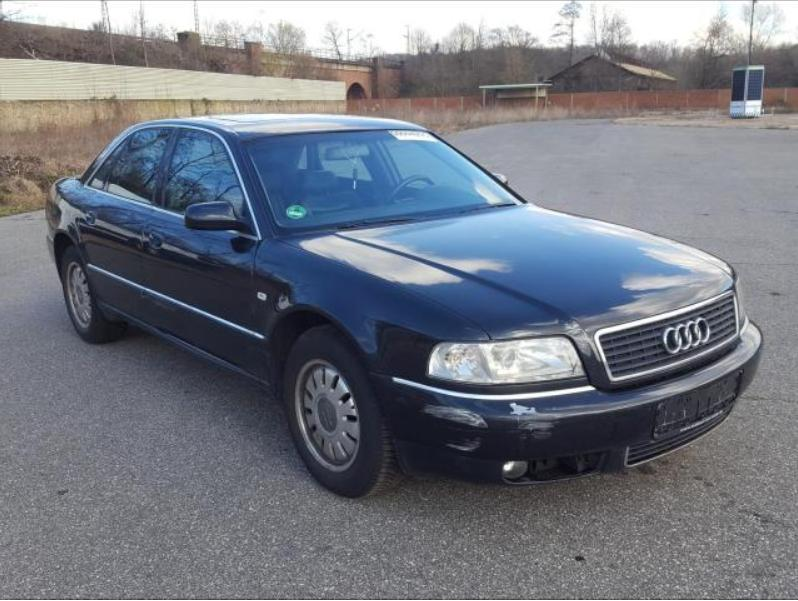Back-door: (74, 128, 174, 320)
Back-wheel: (58, 246, 129, 344)
Back-window: (103, 128, 174, 204), (88, 138, 128, 188)
Fender: (254, 237, 492, 383)
Front-bumper: (370, 319, 764, 484)
Front-door: (141, 128, 261, 376)
Front-wheel: (279, 327, 403, 498)
Front-window: (164, 128, 257, 235)
Grille: (594, 290, 740, 382)
Headlight: (378, 324, 587, 385), (736, 277, 747, 336)
Hood: (276, 202, 741, 390)
License-plate: (655, 370, 741, 439)
Mirror: (184, 200, 255, 253), (493, 173, 509, 184)
Quarter-panel: (45, 178, 100, 269)
Rocker-panel: (90, 292, 269, 389)
Roof: (138, 114, 426, 140)
Windshield: (240, 129, 528, 236)
